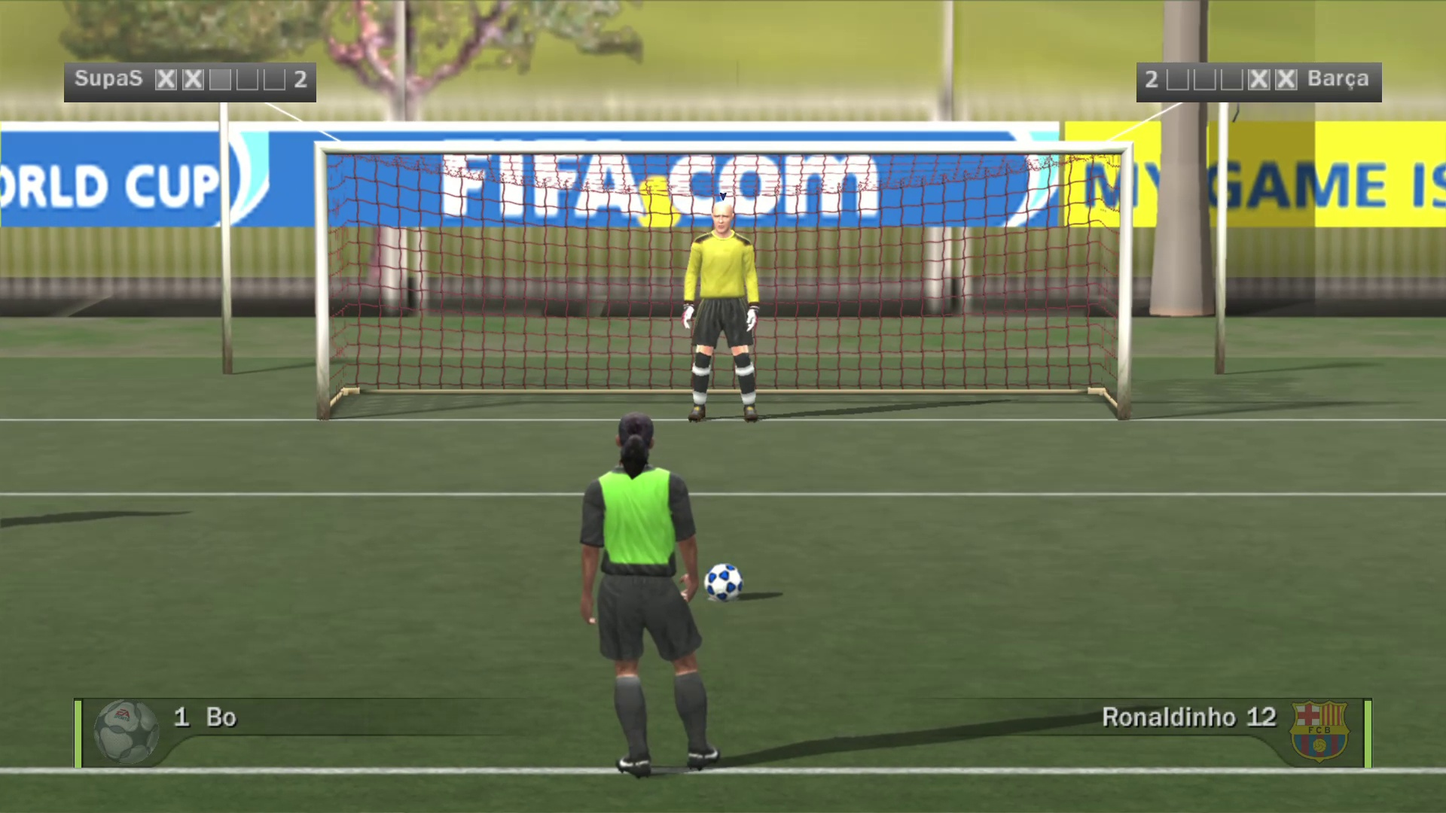ball: (682, 541, 725, 581)
goal_post: (0, 26, 723, 287)
keeper: (648, 90, 724, 312)
kicker: (521, 243, 639, 582)
